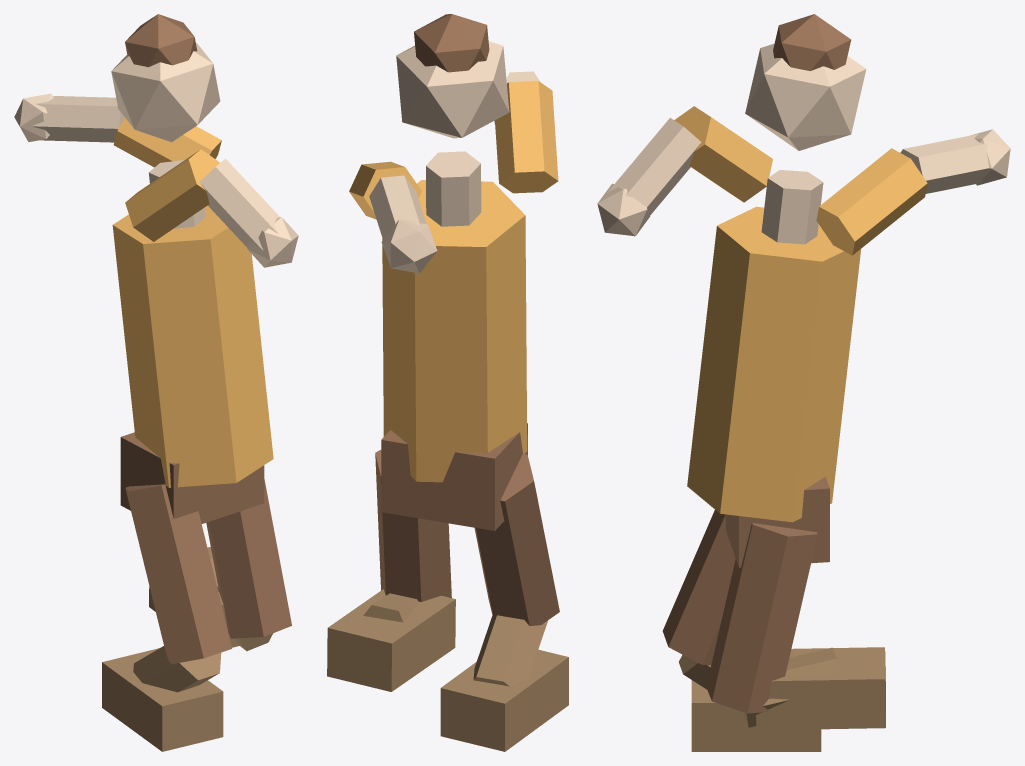
File: pose_attack_1_09.glb
The picture shows the model from 3 angles, left to right: view 1: azimuth 30°, elevation 25°; view 2: azimuth 150°, elevation 25°; view 3: azimuth 270°, elevation 25°; orthographic projection. The views are drawn at different scales.
Parts seen in each view (by area): view 1: pose; view 2: pose; view 3: pose.
Boxes of the visible parts, x1,y1,x2,y2 form: pose: (14,14,298,751); pose: (327,14,568,751); pose: (597,14,1010,751).
Size of the model in its own units: 0.3691 by 1.5 by 0.7644.
